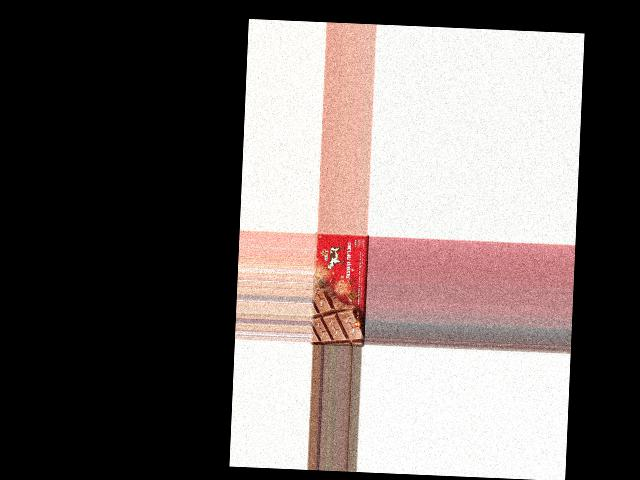chocolate: (311, 231, 369, 346)
